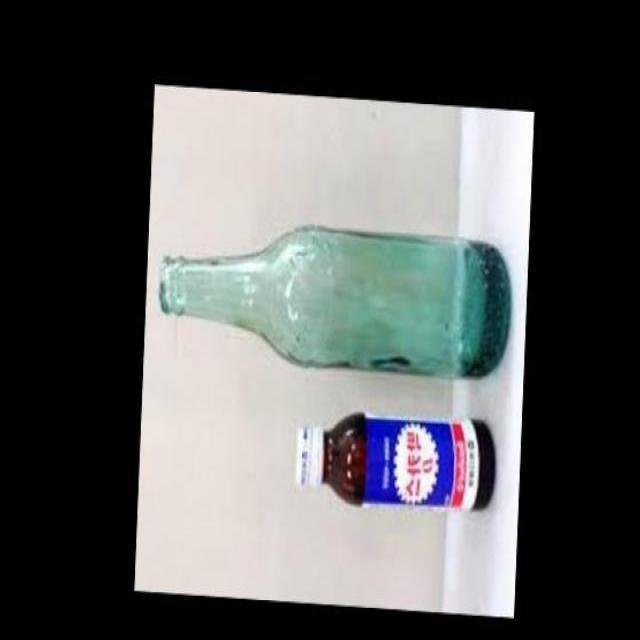Glass: (155, 218, 518, 390), (286, 403, 498, 530)
